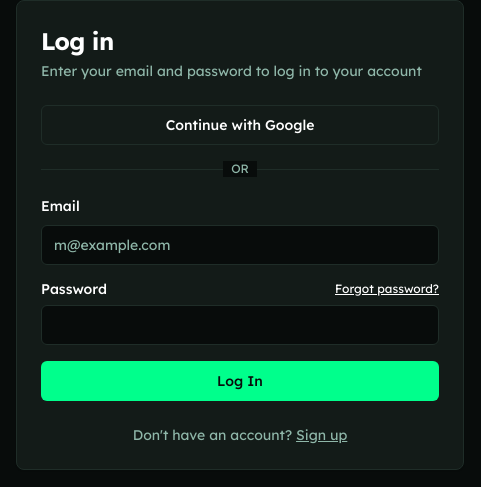
LoginForm › should show loading state during login
In the field labelled "Email": [240, 245] box [41, 225, 439, 265], type "test@example.com"
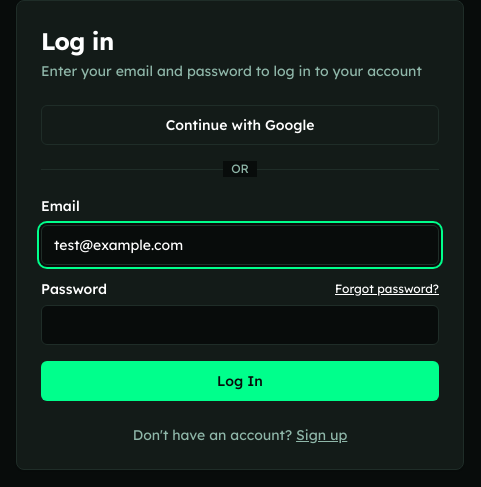
In the password field labelled "Password": [240, 325] box [41, 305, 439, 345], type "password123"
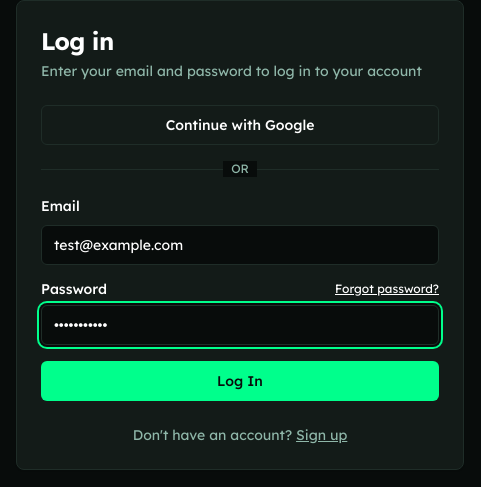
Click the button "Log In": [240, 381] box [41, 361, 439, 401]
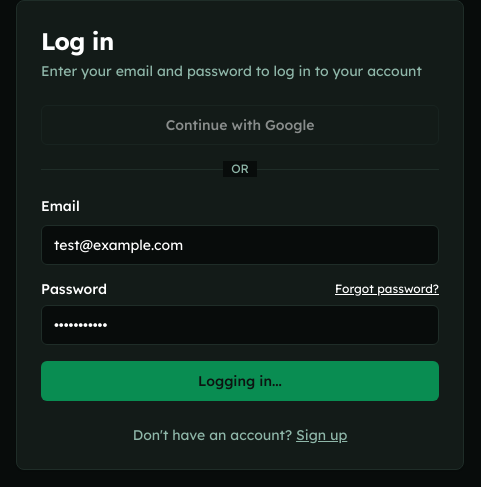
Check: the button "Logging in..." is disabled, box [41, 361, 439, 401]
